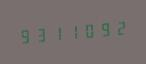nine: (17, 24, 32, 47), (97, 17, 112, 40)
one: (65, 20, 80, 43), (49, 22, 64, 44)
three: (33, 23, 48, 46)
two: (113, 16, 128, 39)
zero: (81, 19, 96, 41)
